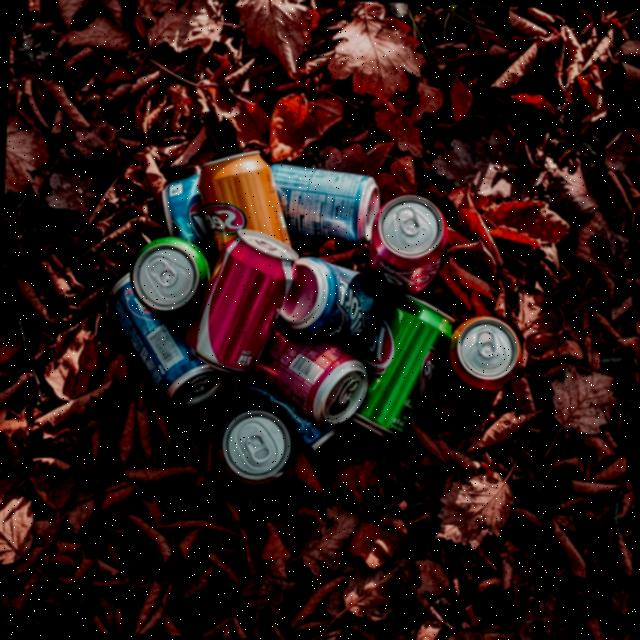aluminum: (98, 262, 230, 410), (178, 225, 301, 377), (342, 289, 458, 444), (194, 146, 296, 274), (258, 325, 368, 429), (261, 160, 382, 250), (275, 256, 378, 344), (365, 190, 452, 292), (213, 406, 298, 490), (451, 311, 525, 396), (133, 233, 206, 310)
